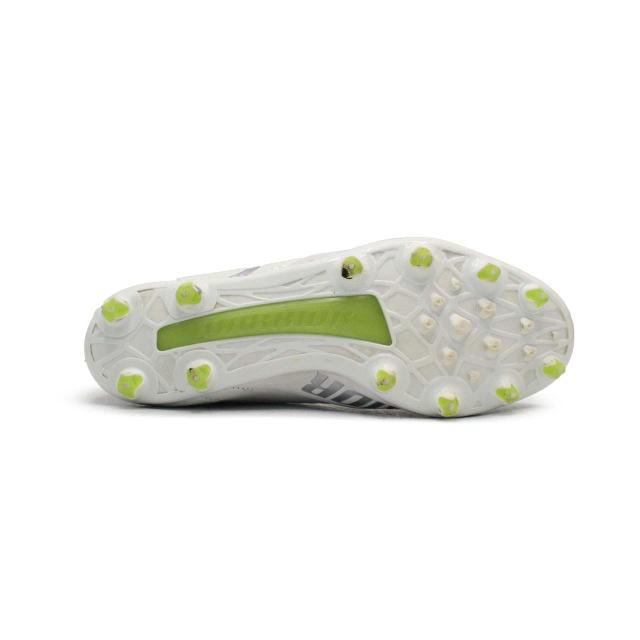outersole: (84, 238, 584, 418)
